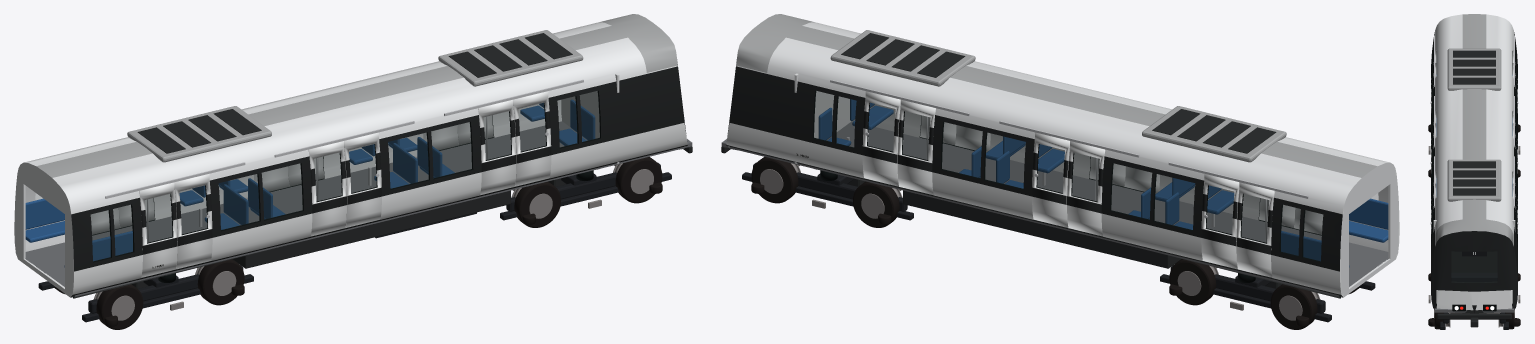
Rendered from mp14_cc_cab.glb.
3 views of the same model, side by side, from view 1: azimuth 30°, elevation 25°; view 2: azimuth 150°, elevation 25°; view 3: azimuth 270°, elevation 25° (orthographic). The views are drawn at different scales.
Parts seen in each view (by area): view 1: METRO_MP14_5voit-CC_V1_Caisse, METRO_MP14_5voit-CC_V1_BaieG1, METRO_MP14_5voit-CC_V1_PorteD3_AV.002, METRO_MP14_5voit-CC_V1_PorteD1_AV.002, METRO_MP14_5voit-CC_V1_PorteD2_AV.002, METRO_MP14_5voit-CC_V1_PorteD1_AR.002, METRO_MP14_5voit-CC_V1_PorteD3_AR.002, METRO_MP14_5voit-CC_V1_PorteD2_AR.002, METRO_MP14_5voit-CC_V1_PorteD1_AV_Vitre, METRO_MP14_5voit-CC_V1_PorteD2_AR_Vitre, METRO_MP14_5voit-CC_V1_PorteD1_AR_Vitre, METRO_MP14_5voit-CC_V1_PorteD2_AV_Vitre (+5 smaller); view 2: METRO_MP14_5voit-CC_V1_Caisse, METRO_MP14_5voit-CC_V1_BaieG1, METRO_MP14_5voit-CC_V1_PorteG3_AV.002, METRO_MP14_5voit-CC_V1_PorteG1_AV.002, METRO_MP14_5voit-CC_V1_PorteG2_AV.002, METRO_MP14_5voit-CC_V1_PorteG1_AR.002, METRO_MP14_5voit-CC_V1_PorteG3_AR.002, METRO_MP14_5voit-CC_V1_PorteG2_AR.002, METRO_MP14_5voit-CC_V1_PorteG1_AV_Vitre, METRO_MP14_5voit-CC_V1_PorteG2_AR_Vitre, METRO_MP14_5voit-CC_V1_PorteG1_AR_Vitre, METRO_MP14_5voit-CC_V1_PorteG2_AV_Vitre (+5 smaller); view 3: METRO_MP14_5voit-CC_V1_Caisse, METRO_MP14_5voit-CC_V1_BaieG1, METRO_MP14_5voit-CC_V1_PorteG1_AV.002, METRO_MP14_5voit-CC_V1_PorteG2_AR.002, METRO_MP14_5voit-CC_V1_PorteG3_AR.002, METRO_MP14_5voit-CC_V1_PorteD1_AV.002, METRO_MP14_5voit-CC_V1_PorteD2_AR.002, METRO_MP14_5voit-CC_V1_PorteD3_AR.002, METRO_MP14_5voit-CC_V1_PorteG1_AR.002, METRO_MP14_5voit-CC_V1_PorteG2_AV.002, METRO_MP14_5voit-CC_V1_PorteD1_AR.002, METRO_MP14_5voit-CC_V1_PorteD2_AV.002 (+2 smaller).
Boxes of the visible parts, bbox=[...] form: METRO_MP14_5voit-CC_V1_Caisse: bbox=[14, 14, 692, 329]; METRO_MP14_5voit-CC_V1_BaieG1: bbox=[35, 91, 599, 261]; METRO_MP14_5voit-CC_V1_PorteD3_AV.002: bbox=[174, 174, 212, 269]; METRO_MP14_5voit-CC_V1_PorteD1_AV.002: bbox=[513, 91, 551, 186]; METRO_MP14_5voit-CC_V1_PorteD2_AV.002: bbox=[344, 132, 381, 227]; METRO_MP14_5voit-CC_V1_PorteD1_AR.002: bbox=[478, 99, 516, 194]; METRO_MP14_5voit-CC_V1_PorteD3_AR.002: bbox=[139, 182, 177, 277]; METRO_MP14_5voit-CC_V1_PorteD2_AR.002: bbox=[308, 141, 346, 236]; METRO_MP14_5voit-CC_V1_PorteD1_AV_Vitre: bbox=[518, 103, 545, 151]; METRO_MP14_5voit-CC_V1_PorteD2_AR_Vitre: bbox=[314, 153, 341, 201]; METRO_MP14_5voit-CC_V1_PorteD1_AR_Vitre: bbox=[483, 111, 510, 159]; METRO_MP14_5voit-CC_V1_PorteD2_AV_Vitre: bbox=[349, 144, 376, 192]; METRO_MP14_5voit-CC_V1_Caisse: bbox=[721, 14, 1399, 329]; METRO_MP14_5voit-CC_V1_BaieG1: bbox=[814, 91, 1378, 261]; METRO_MP14_5voit-CC_V1_PorteG3_AV.002: bbox=[1201, 174, 1239, 269]; METRO_MP14_5voit-CC_V1_PorteG1_AV.002: bbox=[862, 91, 900, 186]; METRO_MP14_5voit-CC_V1_PorteG2_AV.002: bbox=[1032, 132, 1069, 227]; METRO_MP14_5voit-CC_V1_PorteG1_AR.002: bbox=[897, 99, 935, 194]; METRO_MP14_5voit-CC_V1_PorteG3_AR.002: bbox=[1236, 182, 1274, 277]; METRO_MP14_5voit-CC_V1_PorteG2_AR.002: bbox=[1067, 141, 1105, 236]; METRO_MP14_5voit-CC_V1_PorteG1_AV_Vitre: bbox=[868, 103, 895, 151]; METRO_MP14_5voit-CC_V1_PorteG2_AR_Vitre: bbox=[1072, 153, 1099, 201]; METRO_MP14_5voit-CC_V1_PorteG1_AR_Vitre: bbox=[903, 111, 930, 159]; METRO_MP14_5voit-CC_V1_PorteG2_AV_Vitre: bbox=[1037, 144, 1064, 192]; METRO_MP14_5voit-CC_V1_Caisse: bbox=[1428, 14, 1520, 329]; METRO_MP14_5voit-CC_V1_BaieG1: bbox=[1433, 100, 1515, 282]; METRO_MP14_5voit-CC_V1_PorteG1_AV.002: bbox=[1512, 183, 1517, 233]; METRO_MP14_5voit-CC_V1_PorteG2_AR.002: bbox=[1512, 110, 1517, 160]; METRO_MP14_5voit-CC_V1_PorteG3_AR.002: bbox=[1512, 50, 1517, 100]; METRO_MP14_5voit-CC_V1_PorteD1_AV.002: bbox=[1431, 183, 1436, 233]; METRO_MP14_5voit-CC_V1_PorteD2_AR.002: bbox=[1431, 110, 1436, 160]; METRO_MP14_5voit-CC_V1_PorteD3_AR.002: bbox=[1431, 50, 1436, 100]; METRO_MP14_5voit-CC_V1_PorteG1_AR.002: bbox=[1512, 171, 1517, 221]; METRO_MP14_5voit-CC_V1_PorteG2_AV.002: bbox=[1512, 123, 1517, 173]; METRO_MP14_5voit-CC_V1_PorteD1_AR.002: bbox=[1431, 171, 1436, 221]; METRO_MP14_5voit-CC_V1_PorteD2_AV.002: bbox=[1431, 123, 1436, 173].
Size of the model in its own units: 15.04 by 3.48 by 2.59.
Materials: 9 (9 with a texture image).
